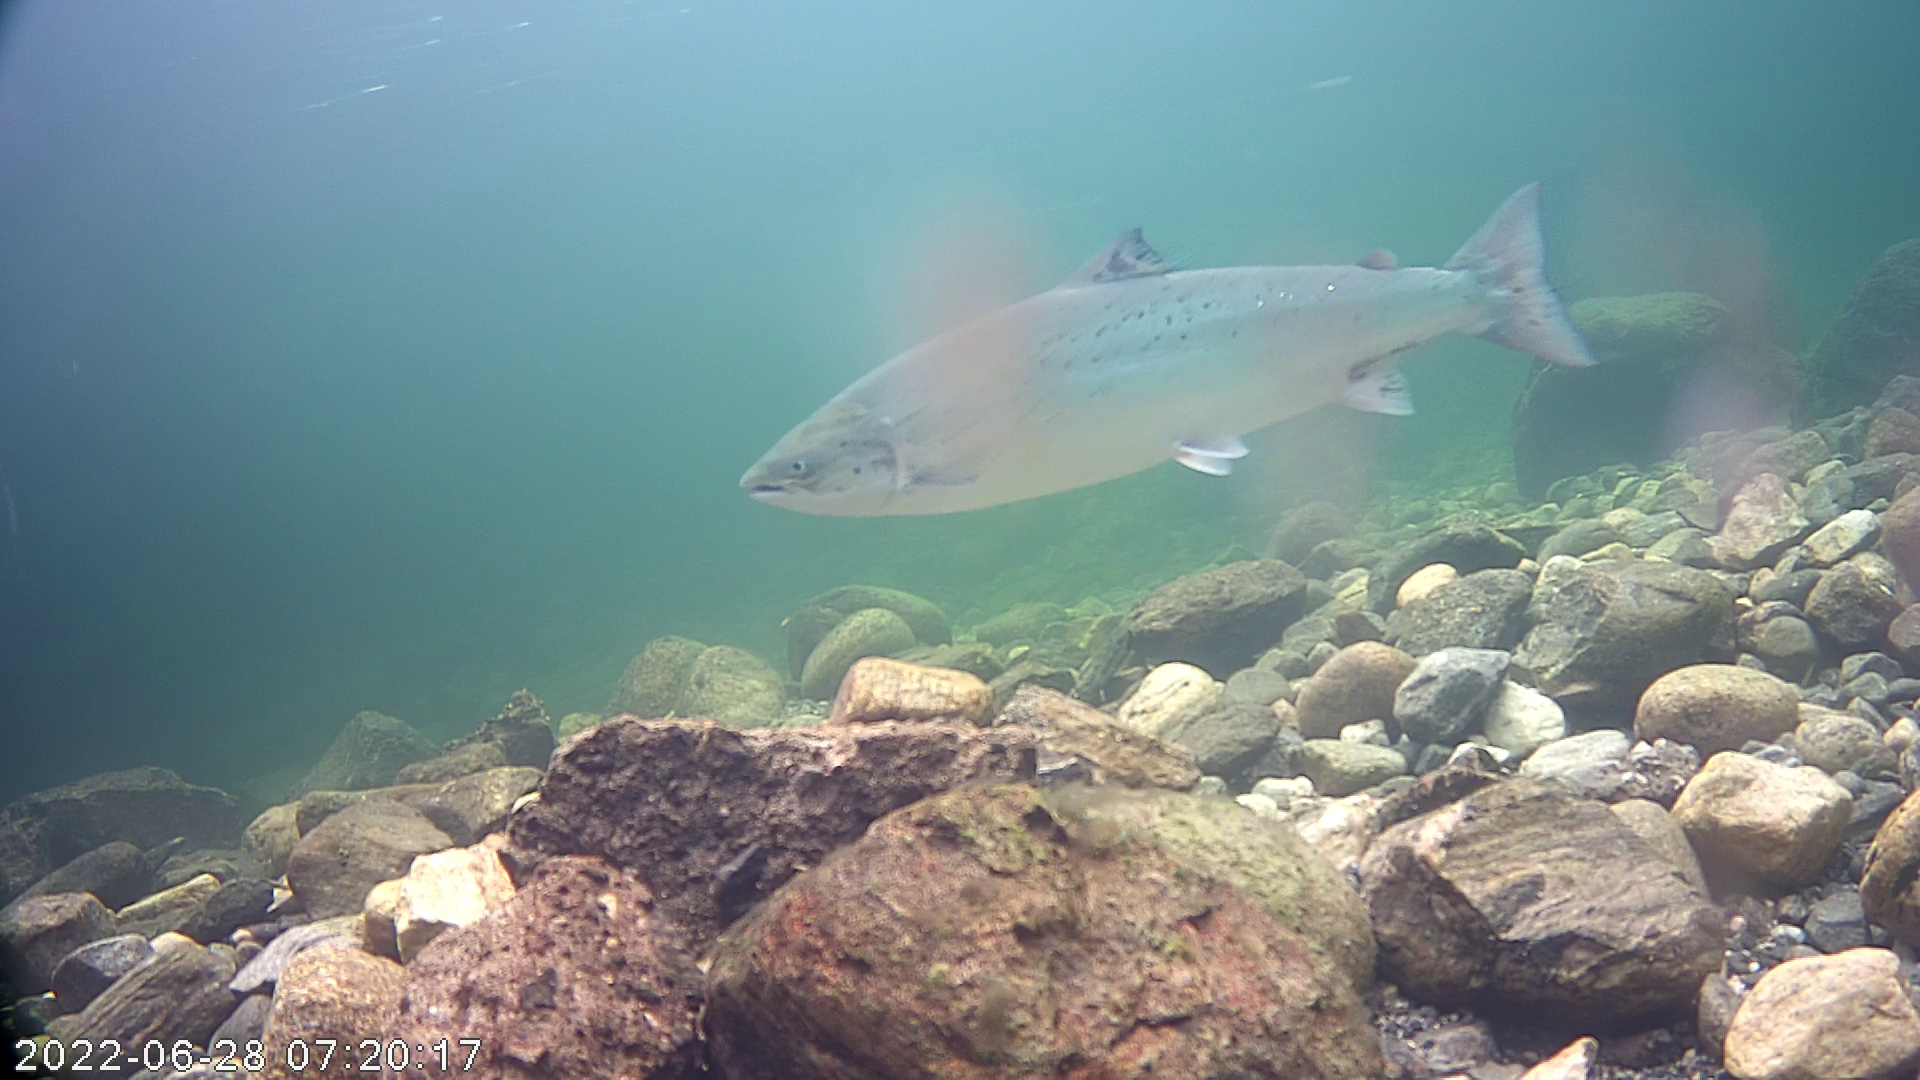salmon: (729, 138, 1614, 547)
